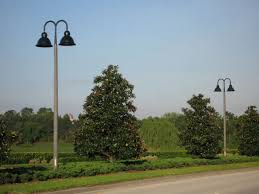light_pole: (46, 22, 62, 172), (215, 75, 231, 157)
